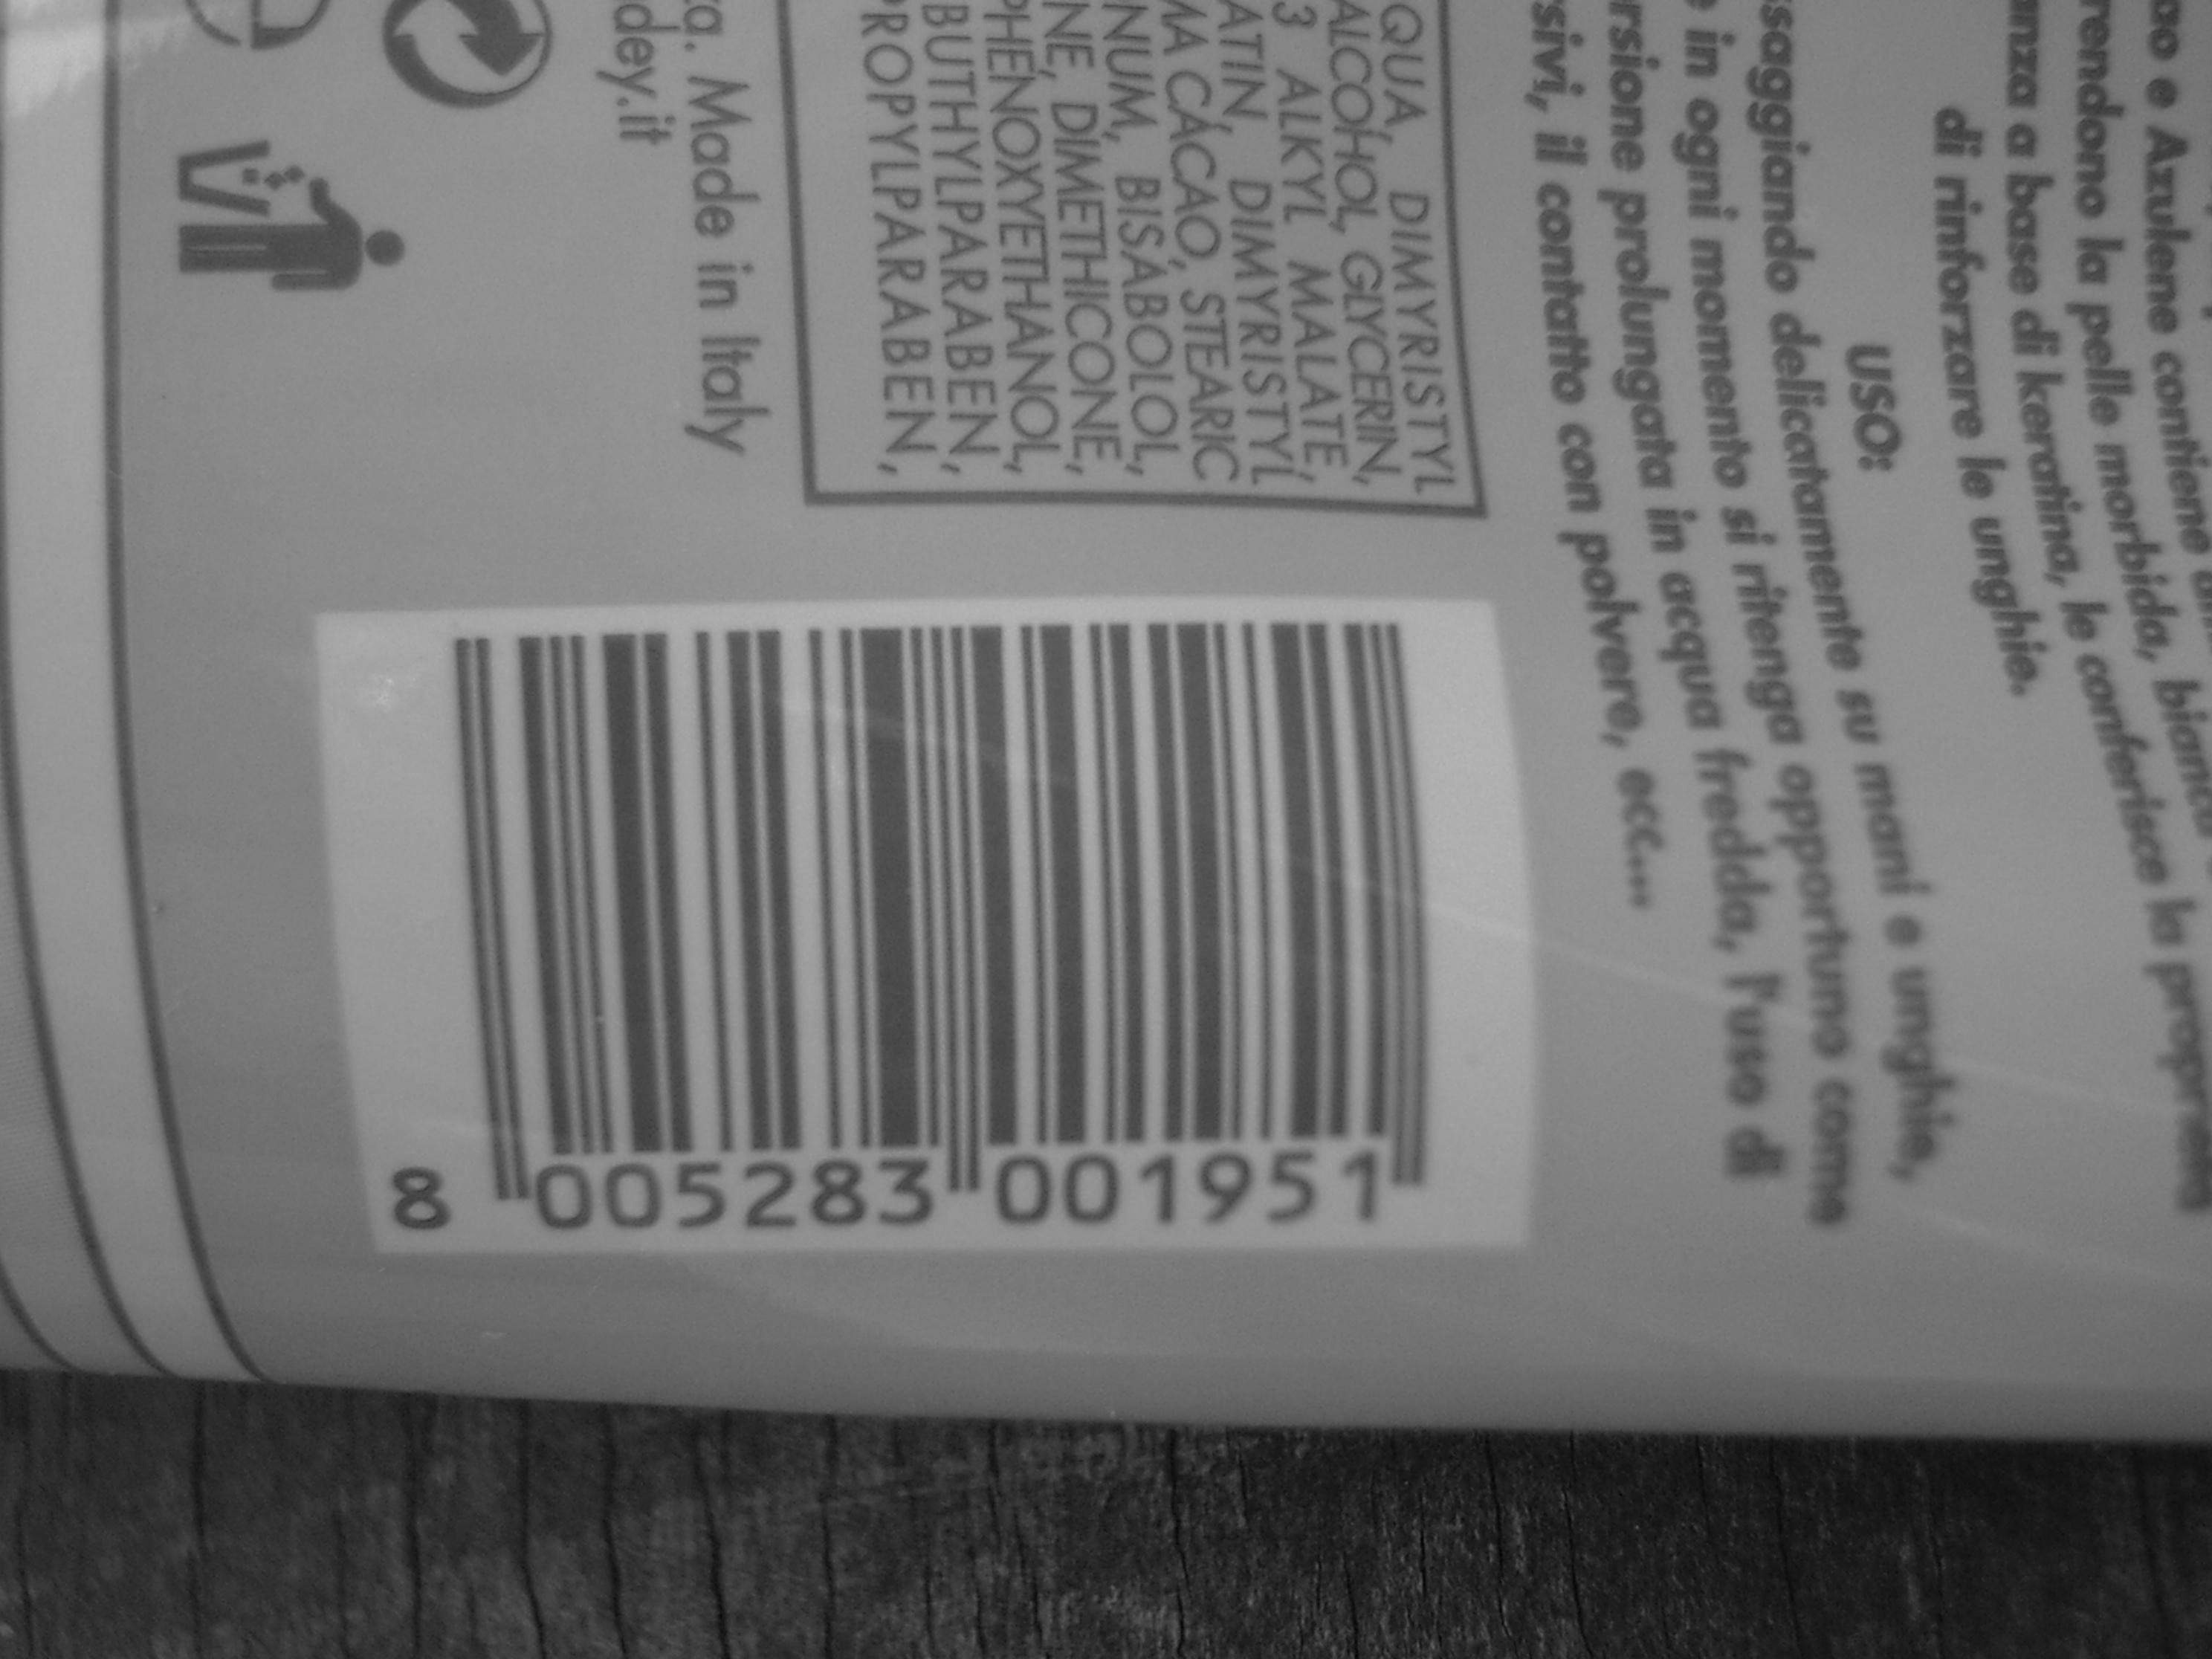Barcode: (408, 624, 1594, 1244)
